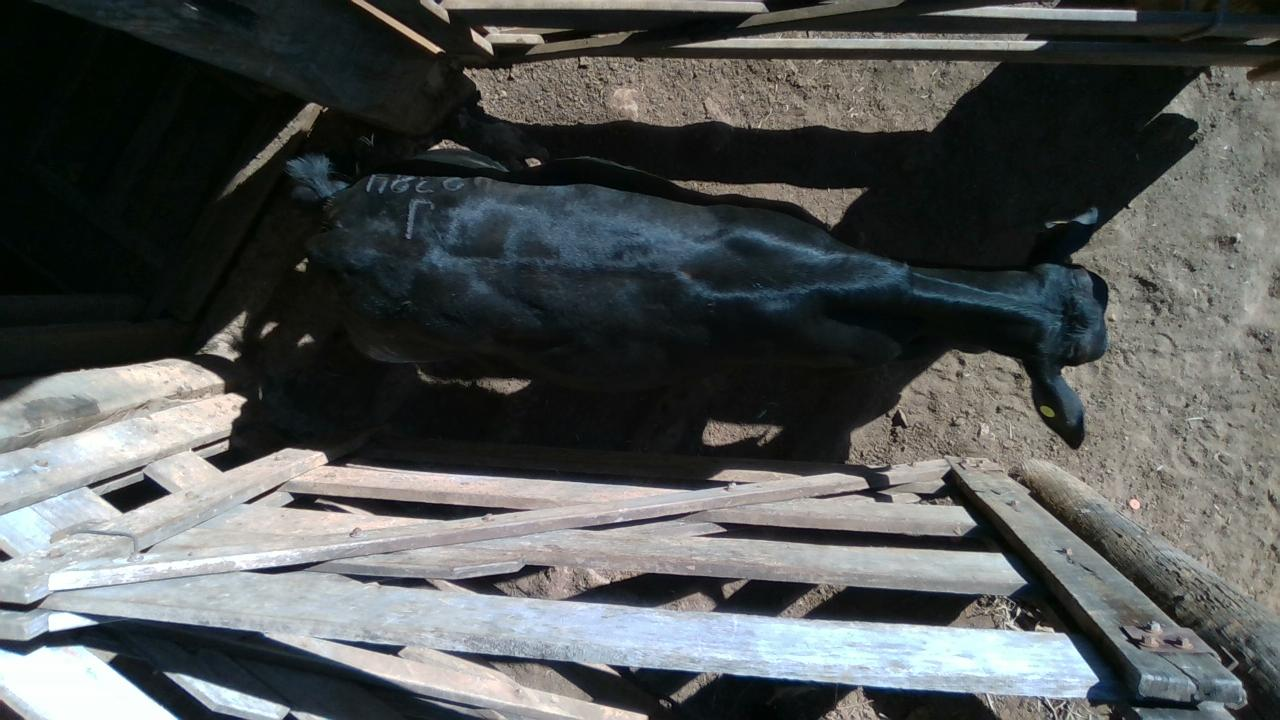cattle: (290, 153, 1109, 450)
